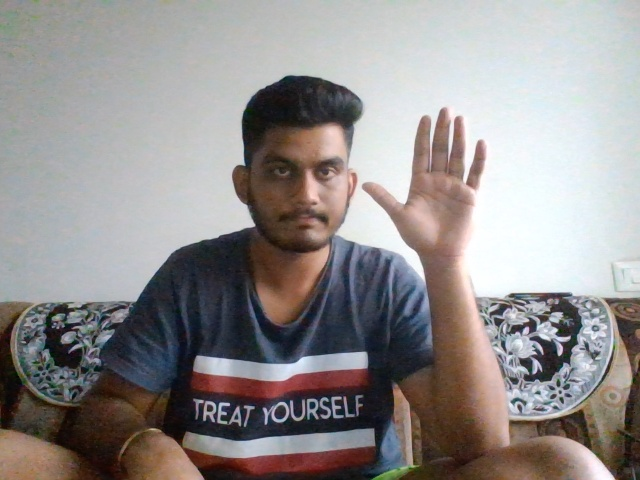Hello: (361, 105, 494, 256)
